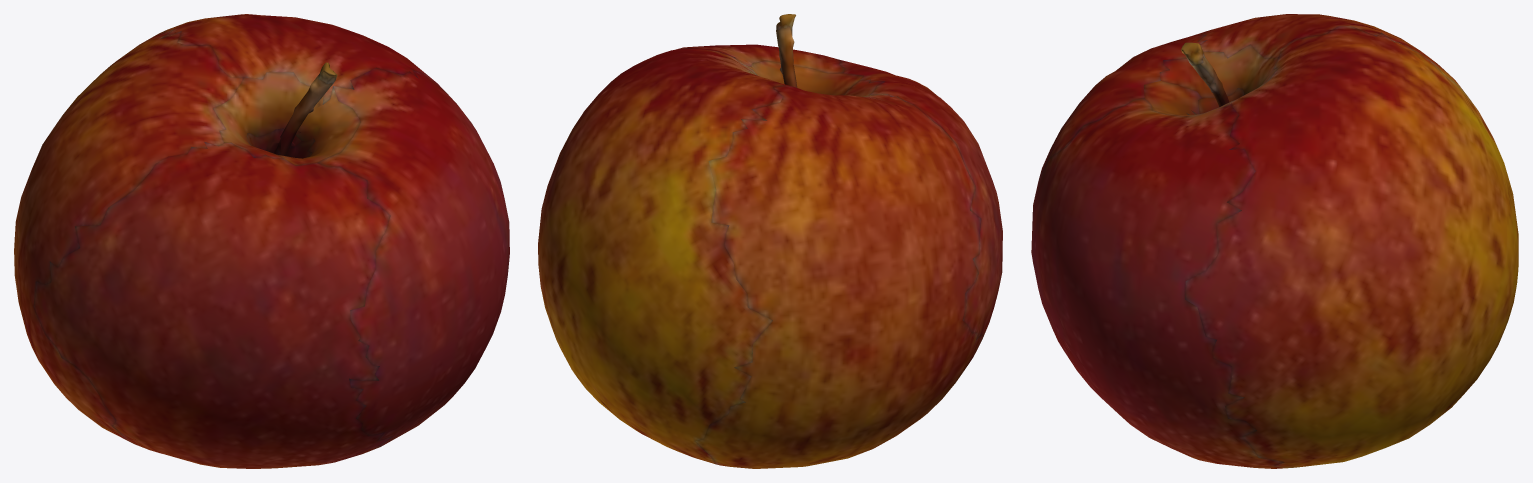
The model's file is apple.glb.
The picture shows the model from 3 angles, left to right: view 1: azimuth 30°, elevation 25°; view 2: azimuth 150°, elevation 25°; view 3: azimuth 270°, elevation 25°; orthographic projection. The views are drawn at different scales.
Parts seen in each view (by area): view 1: food_apple_01; view 2: food_apple_01; view 3: food_apple_01.
Part boxes in pixels (x1=…): food_apple_01: x1=14, y1=14, x2=509, y2=468; food_apple_01: x1=538, y1=14, x2=1002, y2=468; food_apple_01: x1=1031, y1=14, x2=1518, y2=468.
Bounding box in the file's own units: 0.0976 × 0.0854 × 0.0958.
1 material, 1 textured.
